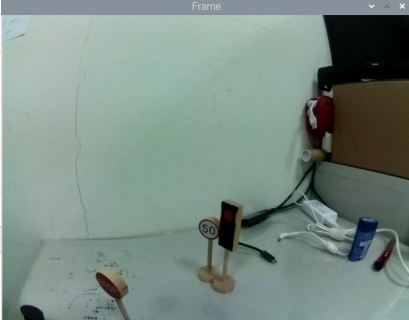Red: (218, 194, 243, 254)
Speed50: (198, 214, 218, 240)
Stop: (91, 262, 131, 302)
